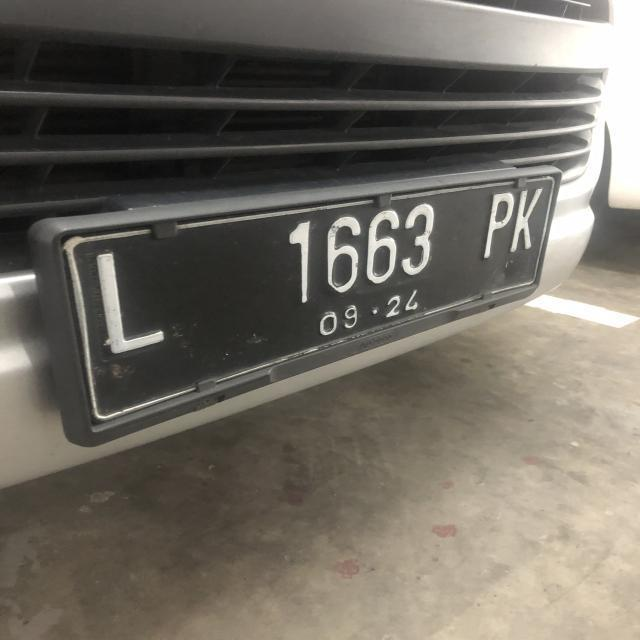1: (288, 217, 318, 304)
3: (400, 200, 436, 283)
6: (322, 212, 361, 293), (366, 208, 398, 286)
K: (508, 186, 544, 256)
L: (94, 242, 160, 359)
P: (482, 190, 516, 258)
